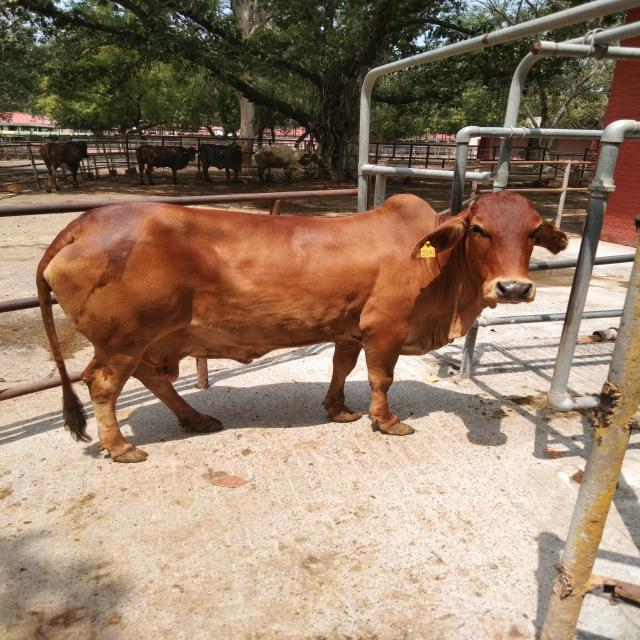1: (368, 192, 440, 212)
Hoof: (192, 414, 223, 433), (111, 448, 148, 463), (378, 421, 415, 435), (326, 409, 361, 422)
